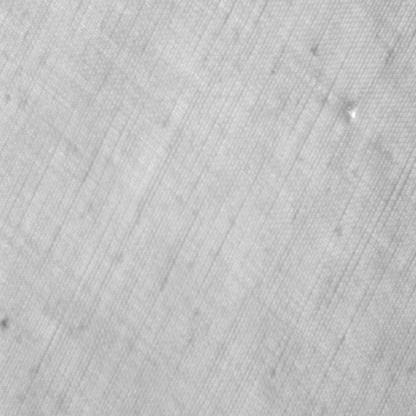hole: (344, 98, 359, 124)
